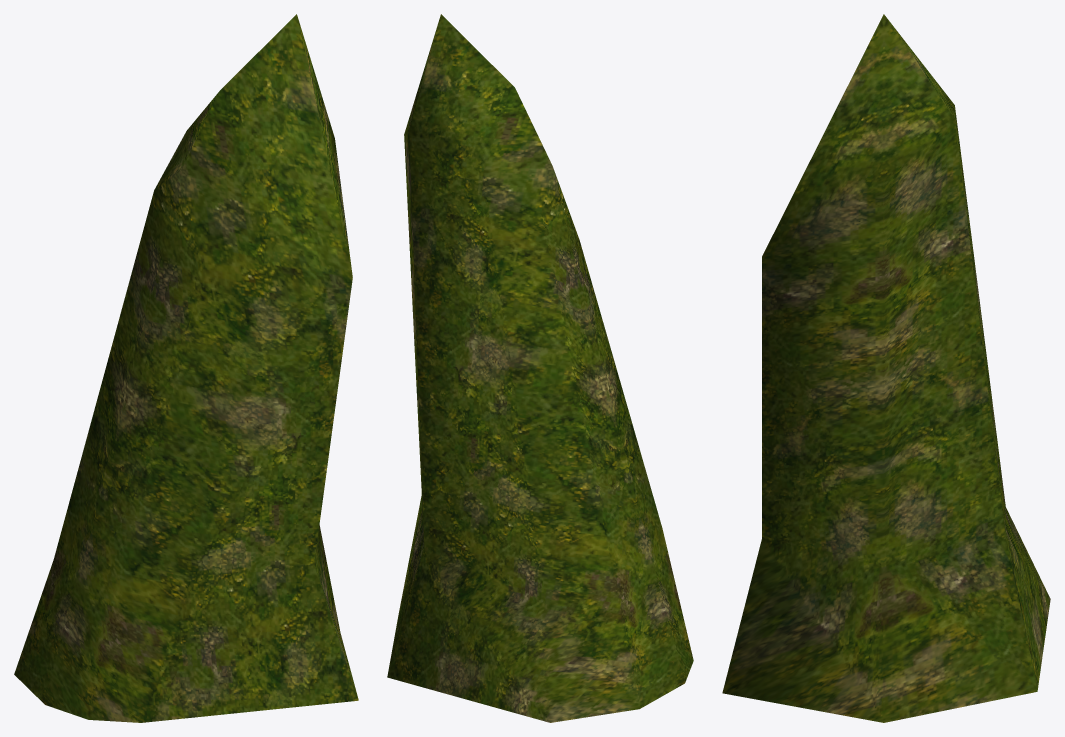
Rendered from INST_OH_ROCK_01.fbx.
3 renders of one model, left to right at view 1: azimuth 30°, elevation 25°; view 2: azimuth 150°, elevation 25°; view 3: azimuth 270°, elevation 25°, orthographic. The views are drawn at different scales.
Visible parts, largest first — view 1: INST_OH_ROCK_01; view 2: INST_OH_ROCK_01; view 3: INST_OH_ROCK_01.
Part boxes in pixels (left/top/right/bottom): INST_OH_ROCK_01: left=14, top=14, right=358, bottom=722; INST_OH_ROCK_01: left=387, top=14, right=693, bottom=722; INST_OH_ROCK_01: left=722, top=14, right=1050, bottom=722.
Size of the model in its own units: 11730 by 23878 by 10361.
1 material, 1 textured.
